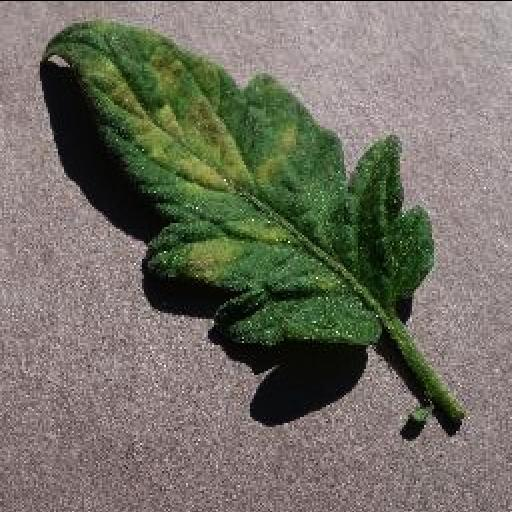disease_tomato: (41, 21, 435, 342)
